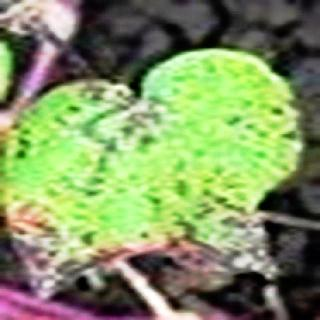leaf spot: (2, 80, 278, 288)
